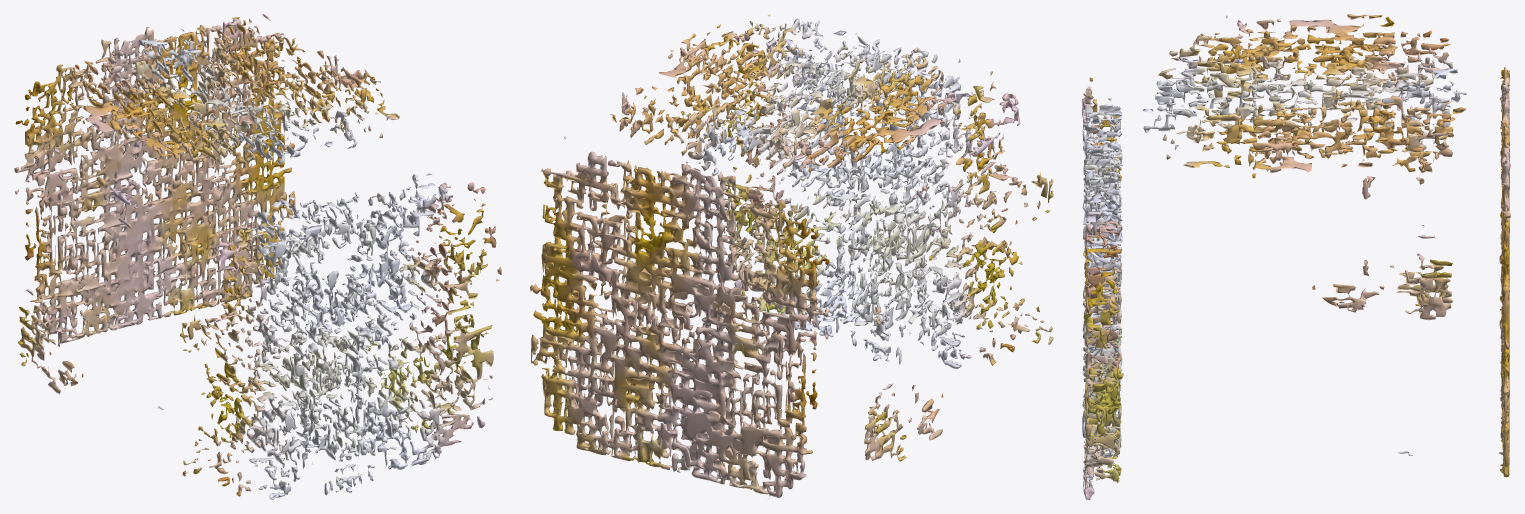
Rendered from rock_large.glb.
3 renders of one model, left to right at view 1: azimuth 30°, elevation 25°; view 2: azimuth 150°, elevation 25°; view 3: azimuth 270°, elevation 25°, orthographic. The views are drawn at different scales.
Parts seen in each view (by area): view 1: world; view 2: world; view 3: world.
Boxes of the visible parts, left/top/right/bottom form: world: left=14, top=14, right=501, bottom=499; world: left=530, top=14, right=1053, bottom=498; world: left=1082, top=14, right=1510, bottom=499.
Bounding box in the file's own units: 0.9455 × 0.968 × 0.9673.
Materials: 1 (1 with a texture image).
